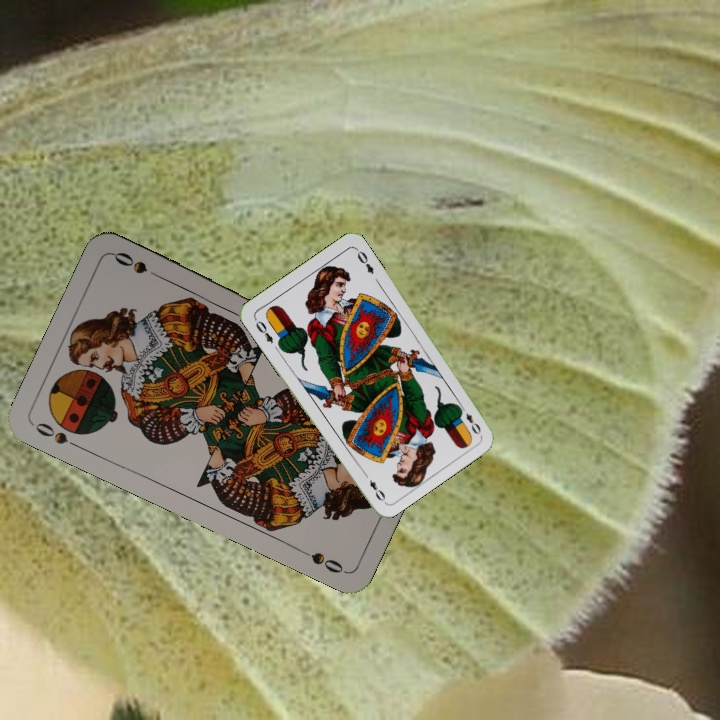EO: (456, 401, 484, 437), (252, 316, 276, 346)
SO: (31, 418, 84, 452)
